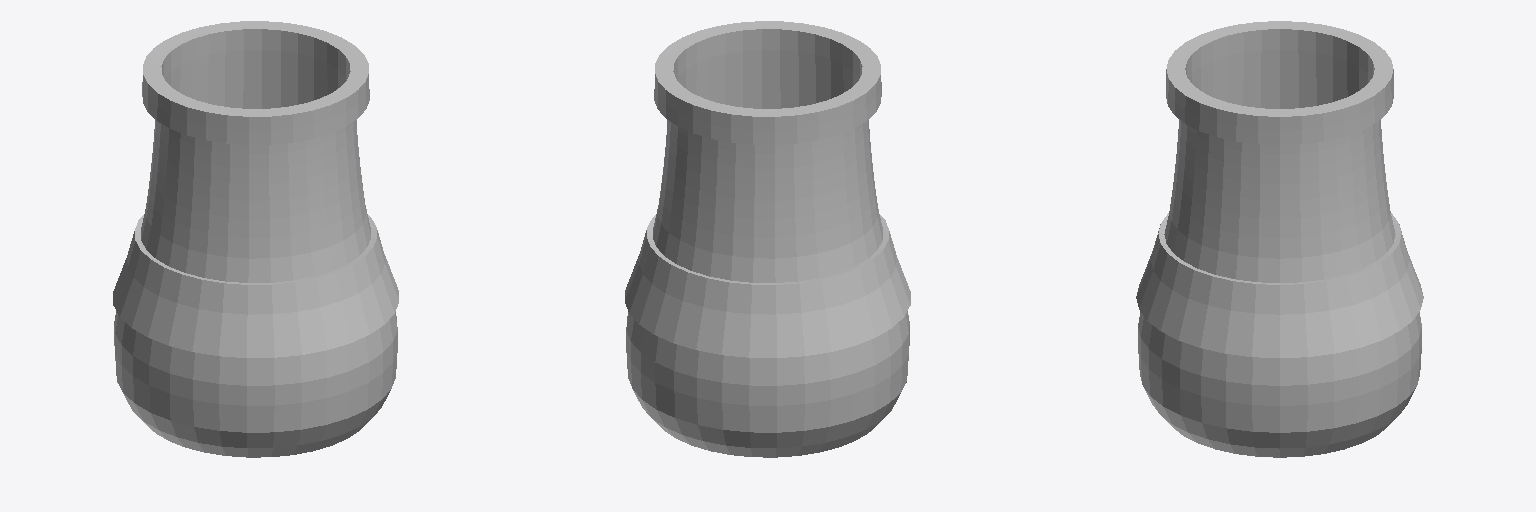
Rendered from cannon_6.obj.
3 views of the same model, side by side, from view 1: azimuth 30°, elevation 25°; view 2: azimuth 150°, elevation 25°; view 3: azimuth 270°, elevation 25° (orthographic).
Parts seen in each view (by area): view 1: 炮管.003_柱体.009; view 2: 炮管.003_柱体.009; view 3: 炮管.003_柱体.009.
Boxes of the visible parts, x1=… form: 炮管.003_柱体.009: x1=113, y1=21, x2=398, y2=457; 炮管.003_柱体.009: x1=625, y1=21, x2=910, y2=457; 炮管.003_柱体.009: x1=1136, y1=21, x2=1423, y2=457.
Size of the model in its own units: 0.9113 by 1.31 by 0.9113.